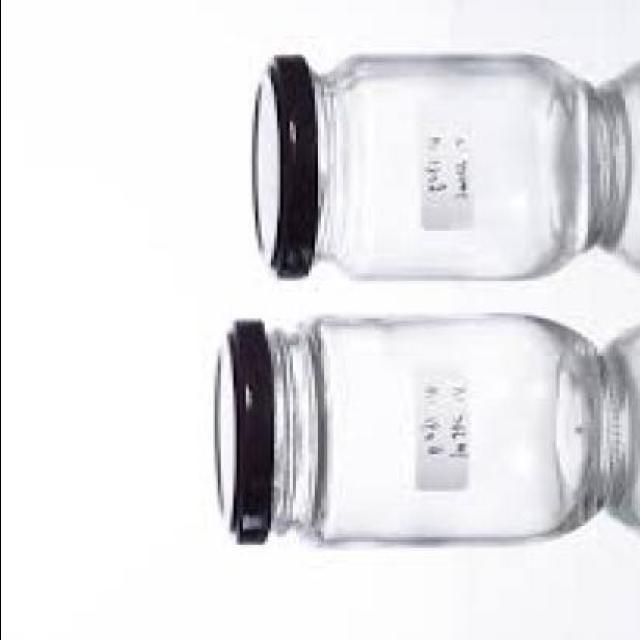kaca: (267, 315, 618, 545), (308, 53, 606, 276)
